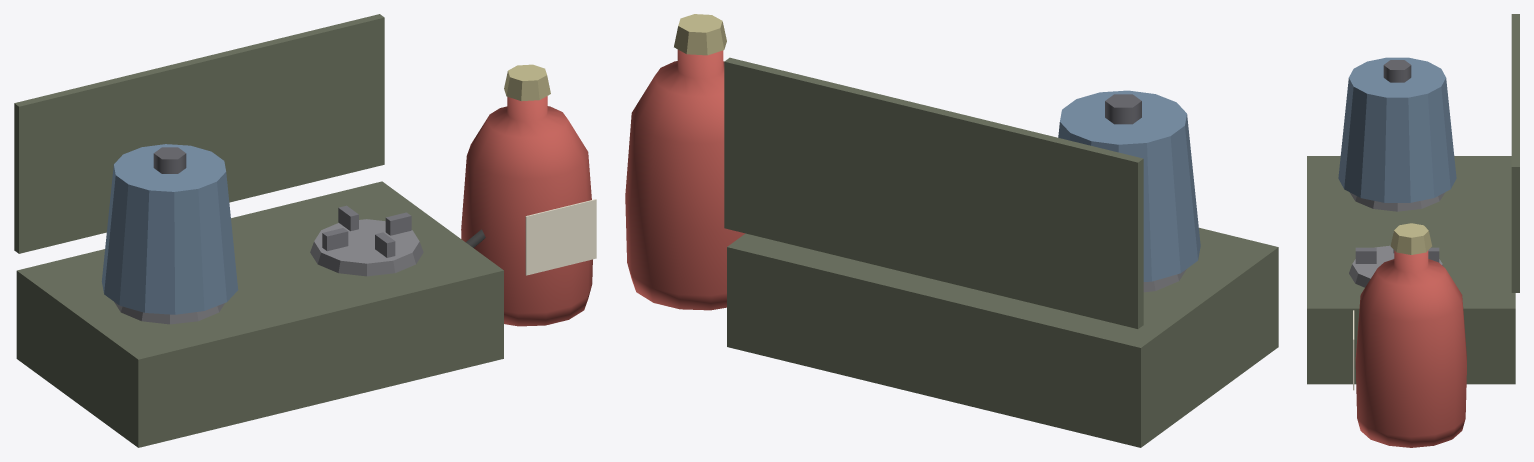
File: camp_stove_a_cold.glb
3 renders of one model, left to right at view 1: azimuth 30°, elevation 25°; view 2: azimuth 150°, elevation 25°; view 3: azimuth 270°, elevation 25°, orthographic. The views are drawn at different scales.
Parts seen in each view (by area): view 1: body; view 2: body; view 3: body.
Boxes of the visible parts, left/top/right/bottom form: body: left=14, top=14, right=596, bottom=447; body: left=625, top=14, right=1278, bottom=447; body: left=1307, top=14, right=1519, bottom=447.
Size of what is drawn, in the model's own units: 0.722 by 0.355 by 0.306.
